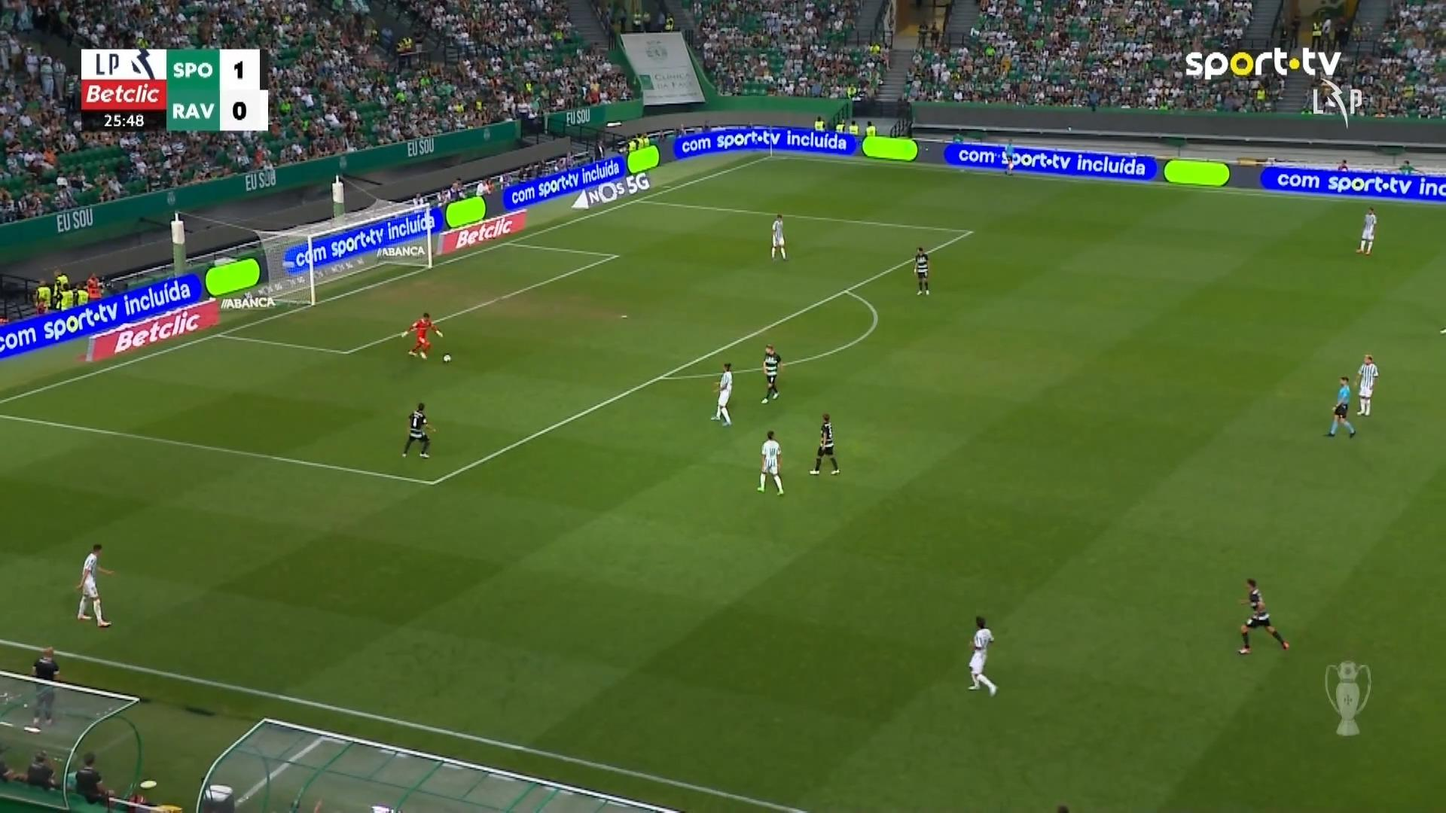ball: (442, 353, 451, 362)
goalkeeper: (400, 312, 443, 359)
player: (1236, 577, 1289, 654), (75, 542, 114, 627), (966, 615, 998, 696), (808, 412, 840, 475), (401, 402, 435, 458), (756, 430, 784, 495), (1354, 353, 1378, 416), (711, 362, 734, 425), (760, 343, 782, 403), (1356, 206, 1377, 254), (914, 245, 930, 295), (770, 213, 787, 260)
referee: (30, 645, 60, 727), (1325, 375, 1356, 437), (1001, 139, 1016, 175)
